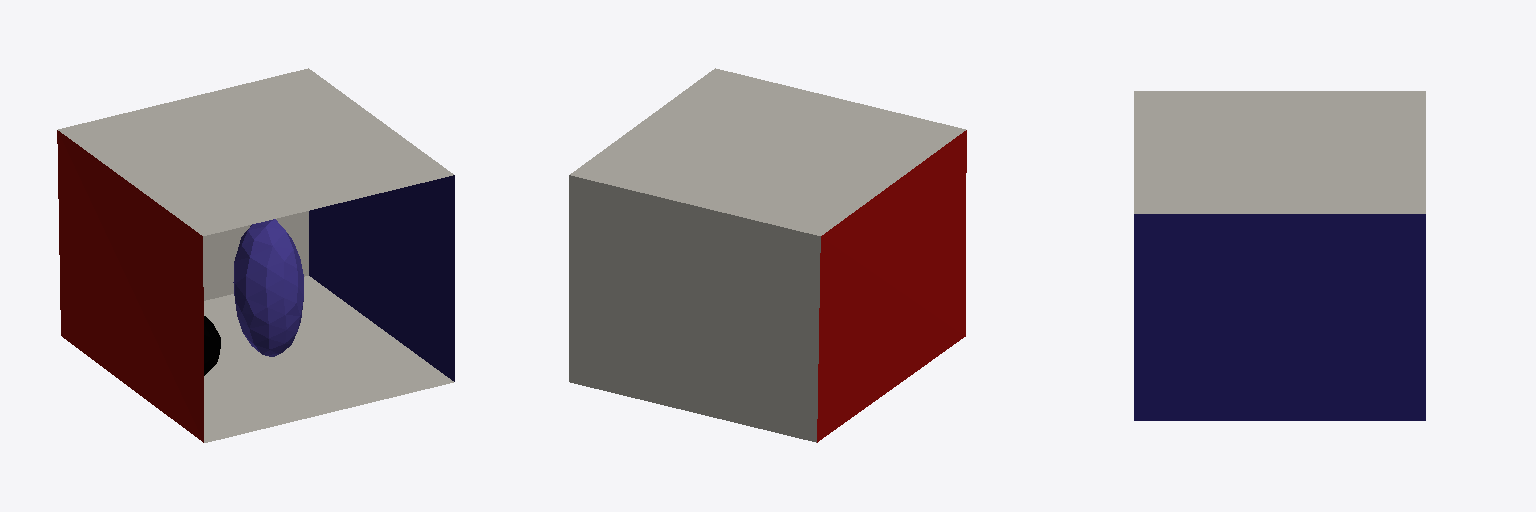
File: CornellBox-Ellipsoid-338.obj
The picture shows the model from 3 angles: view 1: azimuth 30°, elevation 25°; view 2: azimuth 150°, elevation 25°; view 3: azimuth 270°, elevation 25°; orthographic projection.
Visible parts, largest first — view 1: ceiling, leftWall, floor, rightWall, leftSphere, backWall, rightSphere; view 2: backWall, ceiling, leftWall; view 3: rightWall, ceiling.
Part boxes in pixels (left/top/right/bottom): ceiling: left=58, top=68, right=453, bottom=235; leftWall: left=57, top=130, right=203, bottom=442; floor: left=204, top=276, right=453, bottom=442; rightWall: left=309, top=175, right=454, bottom=381; leftSphere: left=233, top=219, right=303, bottom=356; backWall: left=203, top=211, right=308, bottom=300; rightSphere: left=204, top=316, right=220, bottom=375; backWall: left=569, top=175, right=820, bottom=442; ceiling: left=570, top=68, right=965, bottom=235; leftWall: left=817, top=130, right=966, bottom=442; rightWall: left=1134, top=214, right=1425, bottom=420; ceiling: left=1134, top=91, right=1425, bottom=213.
Bounding box in the file's own units: 2.02 × 1.59 × 2.03.